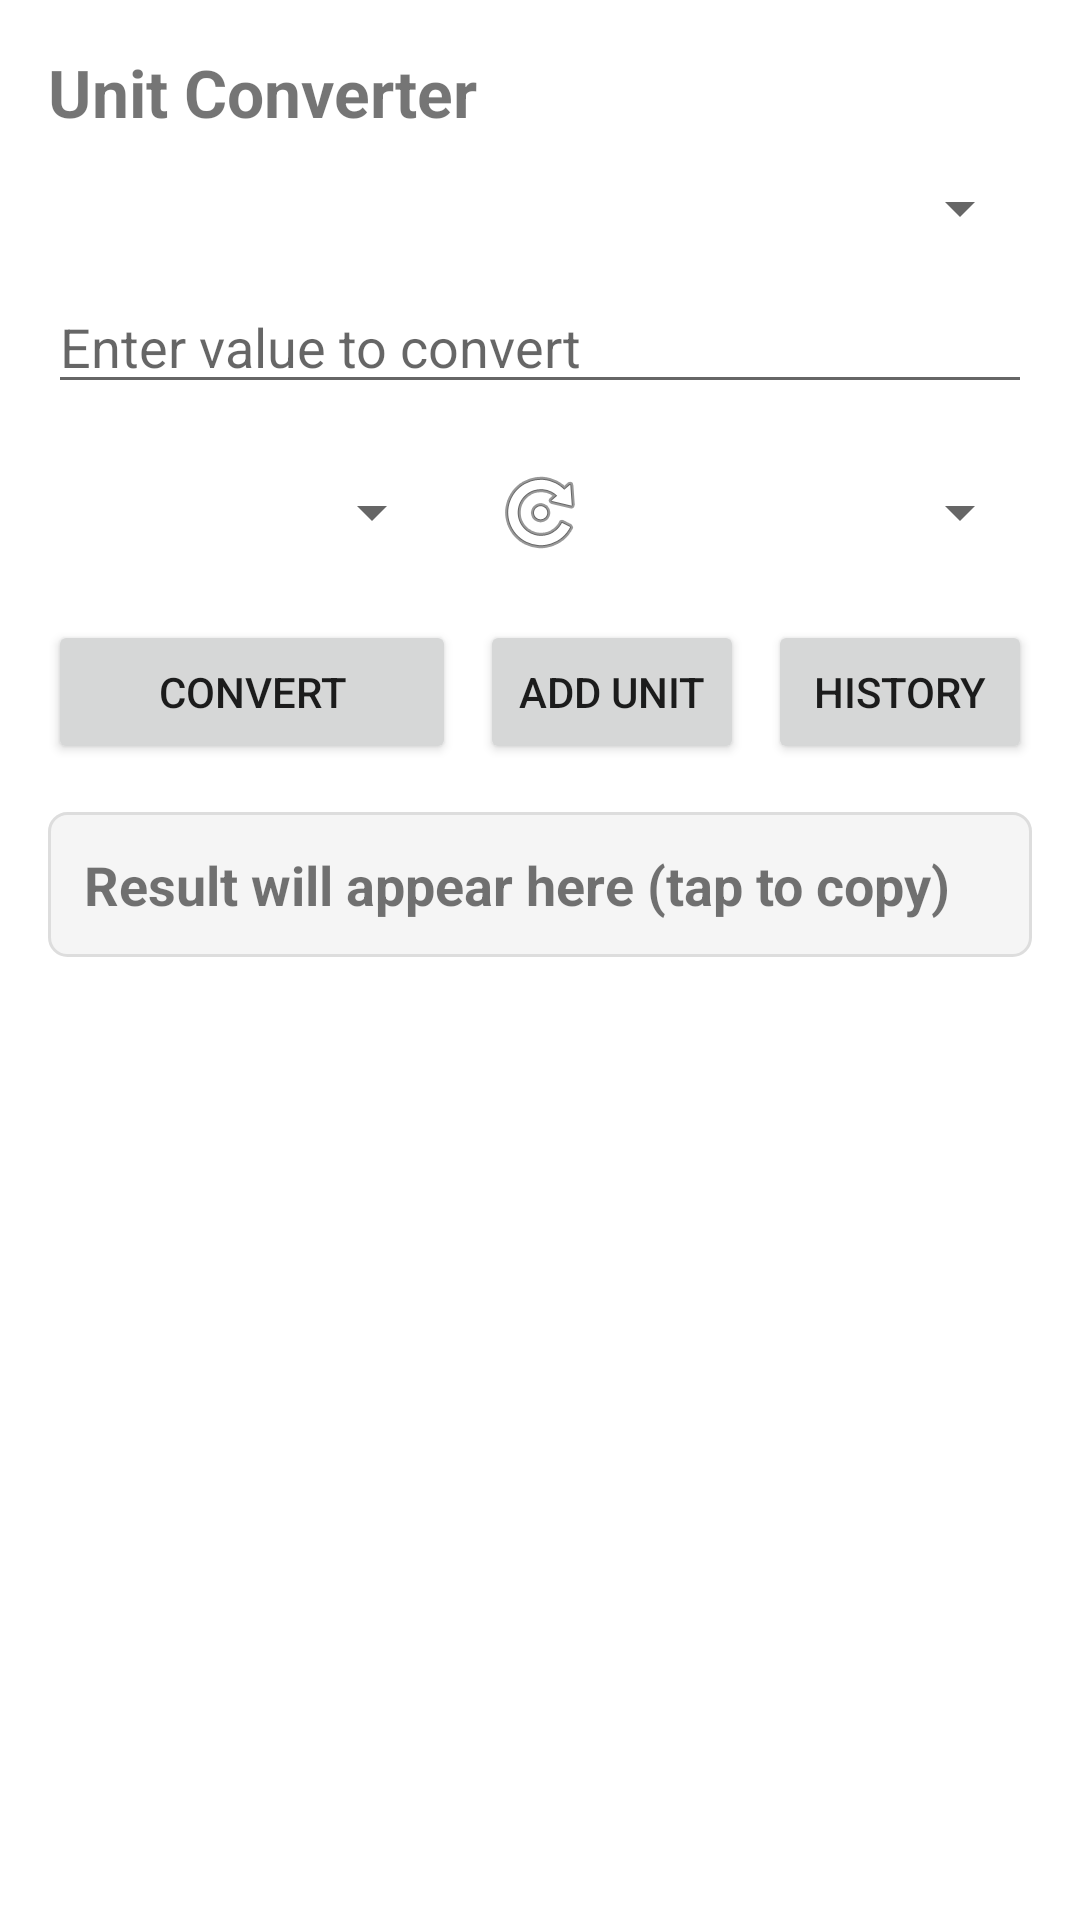

Icon bounding boxes for this 1080w x 1920h phone screenshot, format bbox(x1, y1, x2, y2):
Swap: bbox(505, 477, 575, 548)
